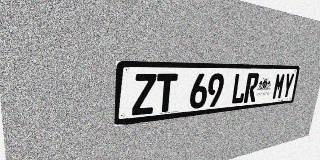6: (189, 73, 209, 109)
9: (206, 73, 225, 107)
L: (230, 73, 248, 105)
M: (272, 73, 286, 100)
R: (243, 73, 260, 103)
T: (155, 74, 178, 113)
Y: (281, 73, 295, 99)
Z: (132, 74, 157, 116)
